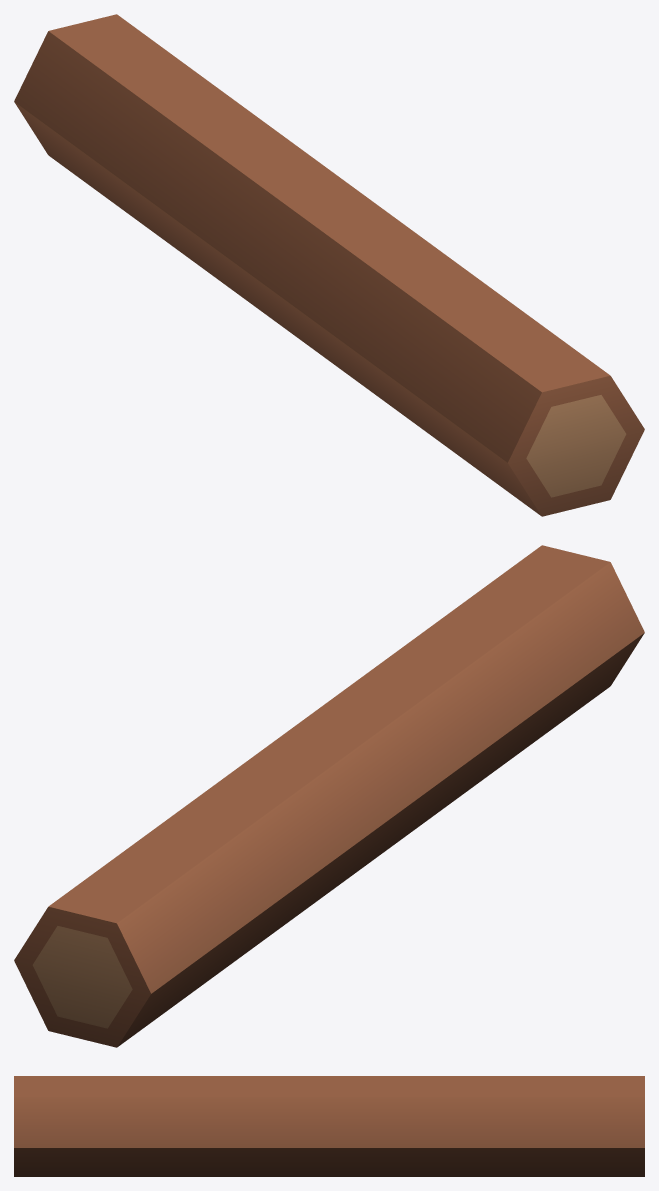
File: wood.fbx
3 views of the same model, one above another, from view 1: azimuth 30°, elevation 25°; view 2: azimuth 150°, elevation 25°; view 3: azimuth 270°, elevation 25° (orthographic). The views are drawn at different scales.
Parts seen in each view (by area): view 1: wood; view 2: wood; view 3: wood.
Boxes of the visible parts, x1,y1,x2,y2 form: wood: (14, 14, 644, 516); wood: (14, 545, 644, 1047); wood: (14, 1076, 644, 1176).
Bounding box in the file's own units: 69.76 × 60.41 × 435.
1 material, 1 textured.
